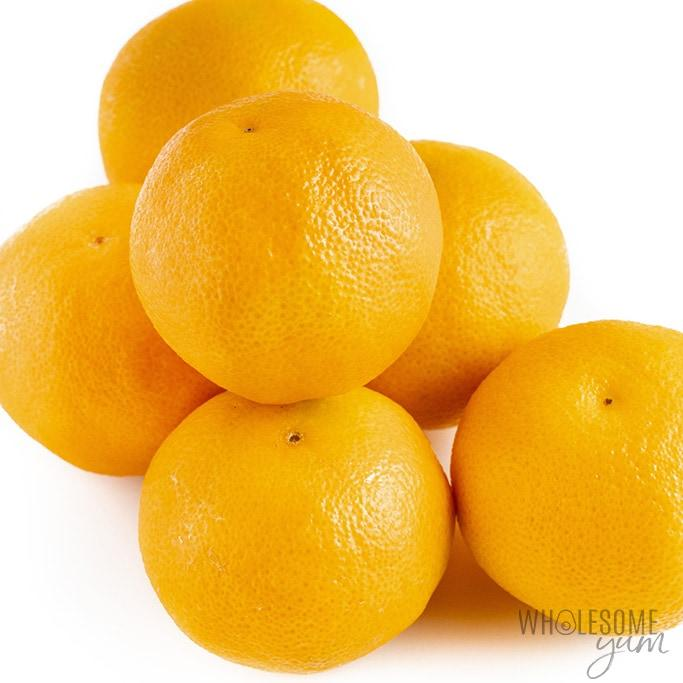cam: (126, 102, 443, 402), (136, 402, 453, 675)
